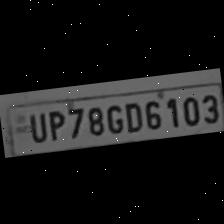0: (176, 91, 200, 126)
1: (160, 92, 180, 128)
3: (196, 88, 220, 125)
6: (139, 94, 164, 130)
7: (63, 103, 87, 139)
8: (82, 102, 106, 136)
D: (120, 96, 142, 132)
G: (102, 100, 126, 134)
P: (42, 105, 66, 141)
U: (22, 109, 48, 144)
